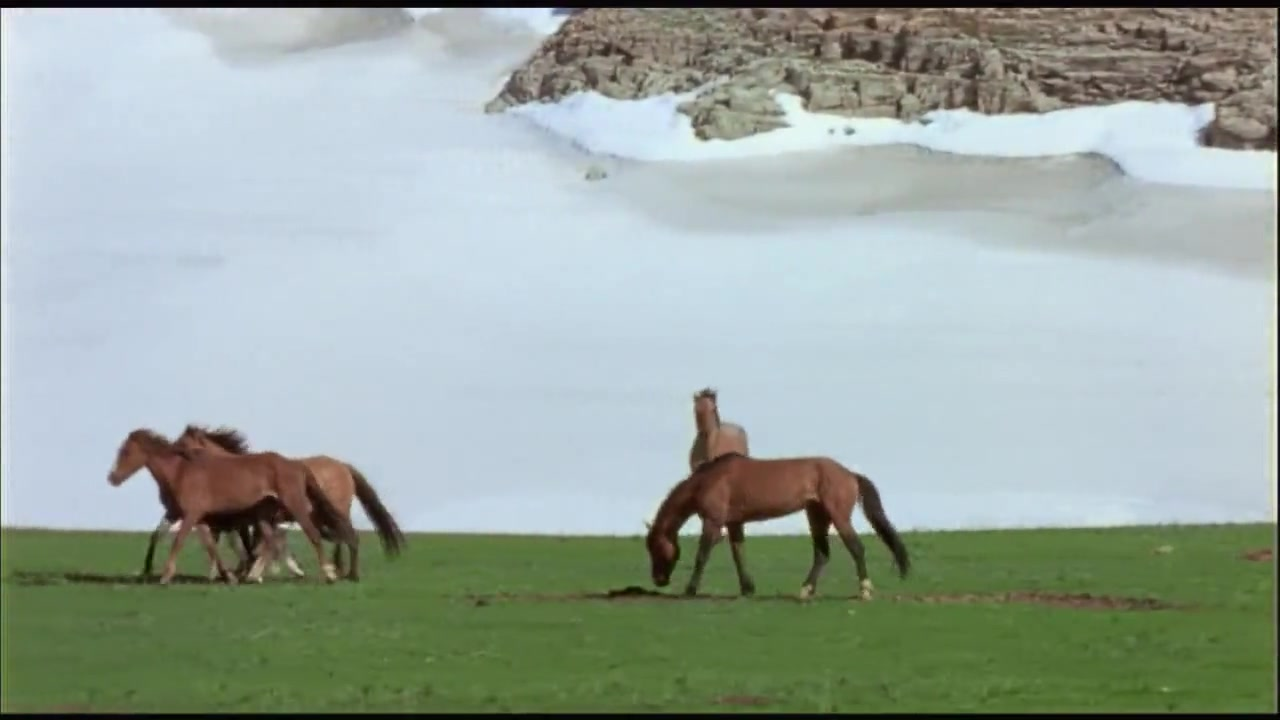horse: (644, 452, 914, 601)
